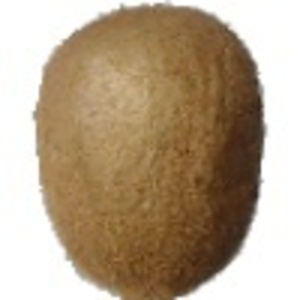kiwi: (33, 2, 266, 300)
